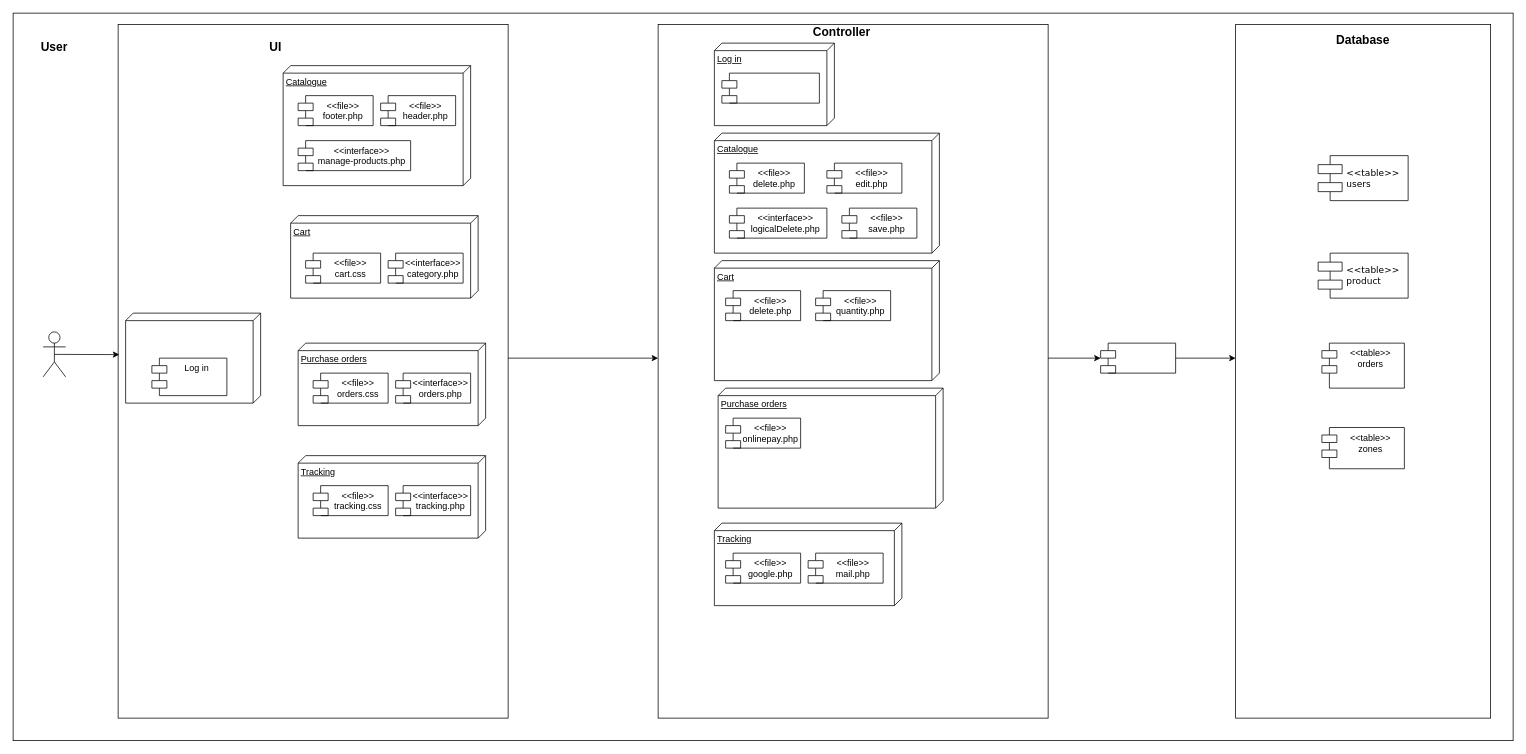
Some shapes in this 1526 by 754 pixel diagram are drawn without their labels. The shapes that lost their labels are listed below. From the top down, each one's box as (x1, y1, x2, y2) in pixels, then its label:
(721, 72, 819, 103): <<file>> verify.php
(42, 331, 66, 377): Actor
(125, 312, 261, 403): <<device>> Web server
(1100, 342, 1176, 373): <<file>> connection.php
